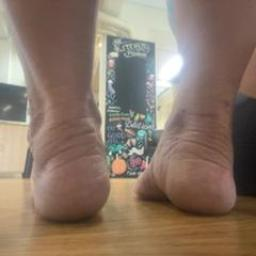Back View -Both Feet-: (18, 70, 248, 232)
